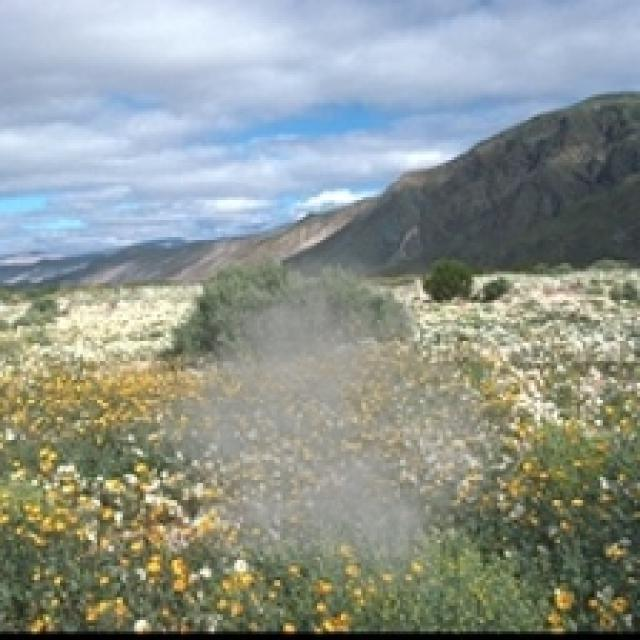Smoke: (123, 212, 526, 592)
